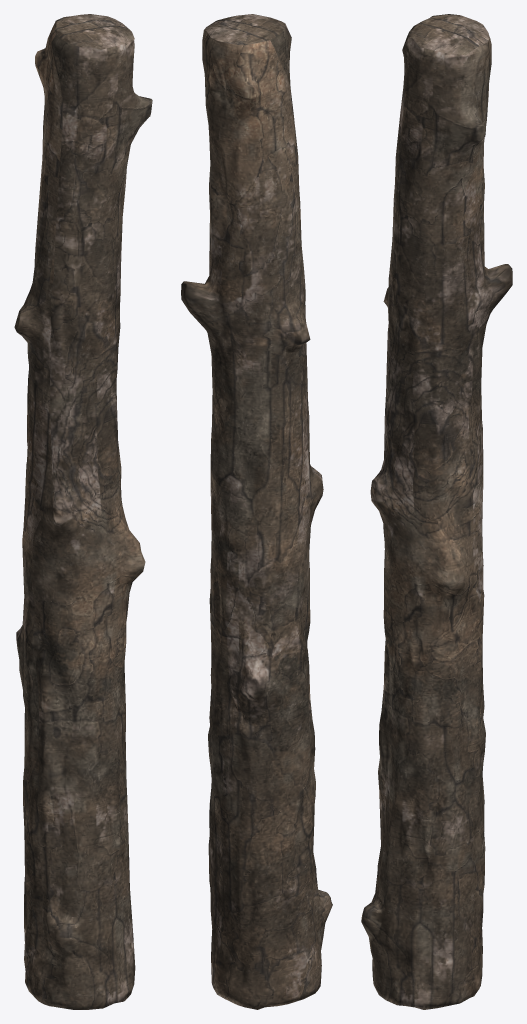
The model's file is SM_Log_A.fbx.
3 views of the same model, side by side, from view 1: azimuth 30°, elevation 25°; view 2: azimuth 150°, elevation 25°; view 3: azimuth 330°, elevation 25° (orthographic).
Parts seen in each view (by area): view 1: SM_Log_A_LOD0; view 2: SM_Log_A_LOD0; view 3: SM_Log_A_LOD0.
Boxes of the visible parts, x1=… form: SM_Log_A_LOD0: x1=14, y1=14, x2=152, y2=1009; SM_Log_A_LOD0: x1=181, y1=14, x2=332, y2=1009; SM_Log_A_LOD0: x1=361, y1=14, x2=512, y2=1009.
Bounding box in the file's own units: 59.1 × 55.16 × 459.
